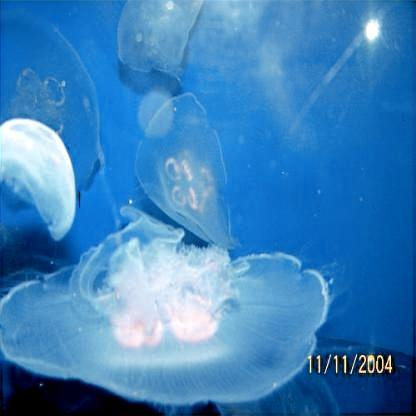Speckle: (6, 211, 332, 406), (130, 91, 233, 247), (2, 108, 75, 244), (116, 0, 205, 72)
